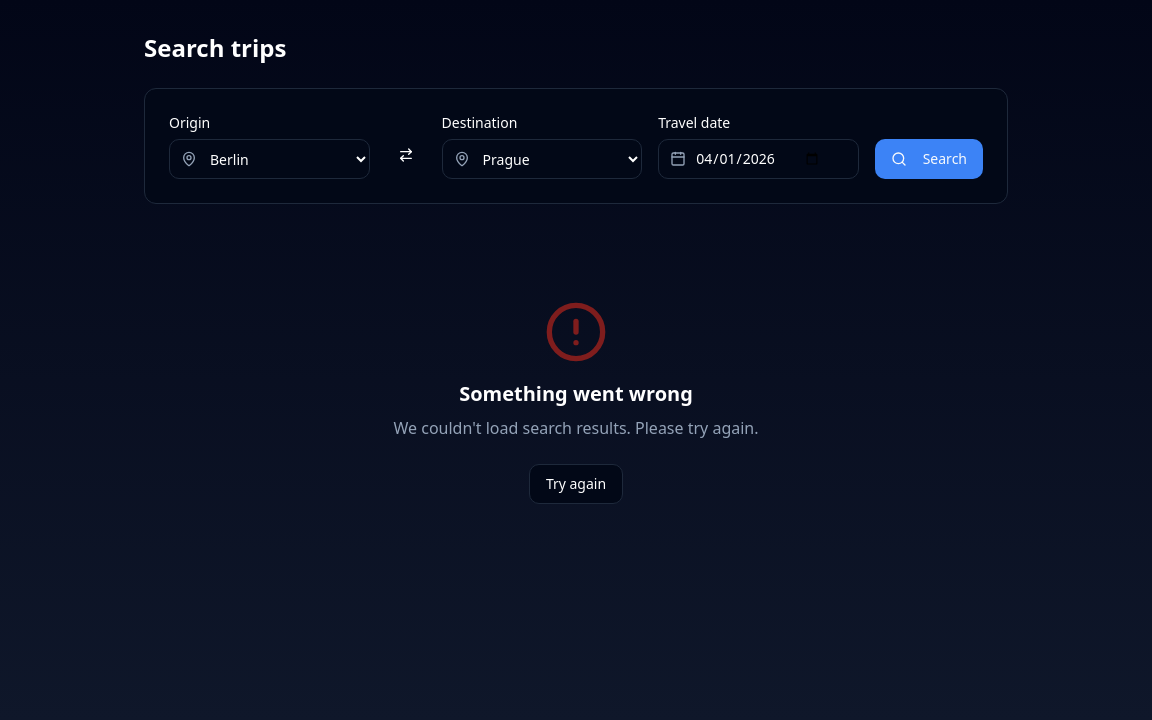
SearchPage › error state › retries the search when retry button is clicked
Expected: the heading "Something went wrong" is shown, x1=459 y1=380 x2=693 y2=408
Click the button "Try again" at (576, 484), box x1=529 y1=464 x2=623 y2=504
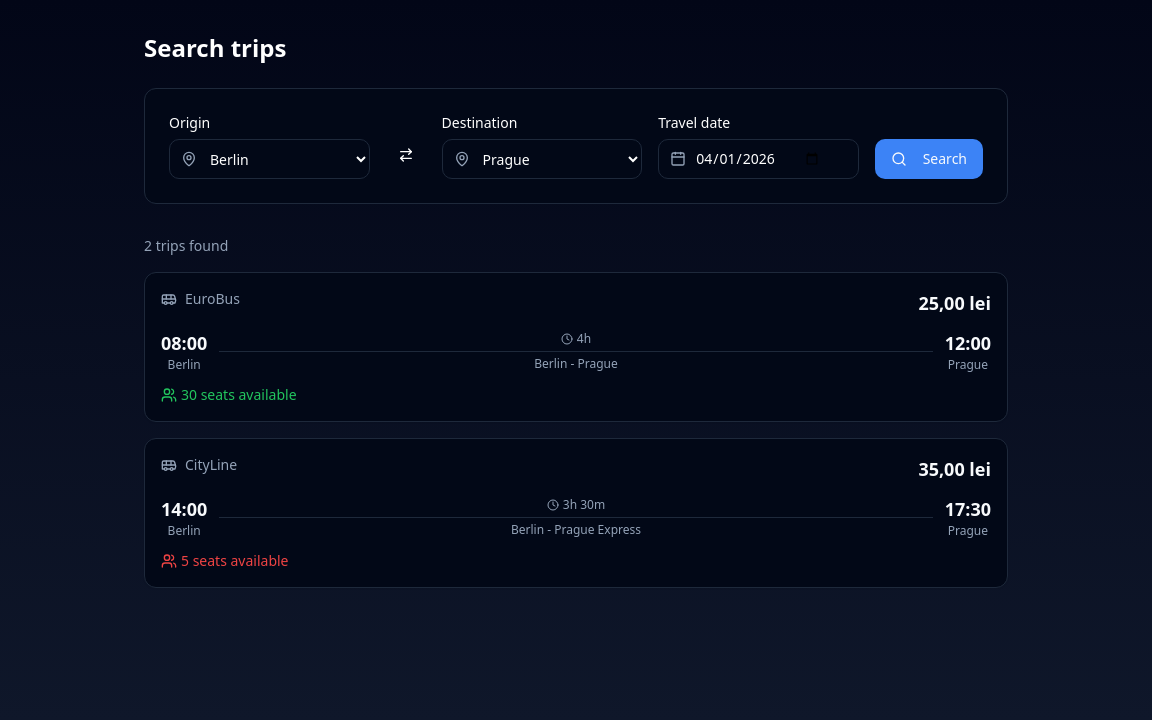
Result: the text "2 trips found" is shown at x1=144 y1=236 x2=228 y2=255
